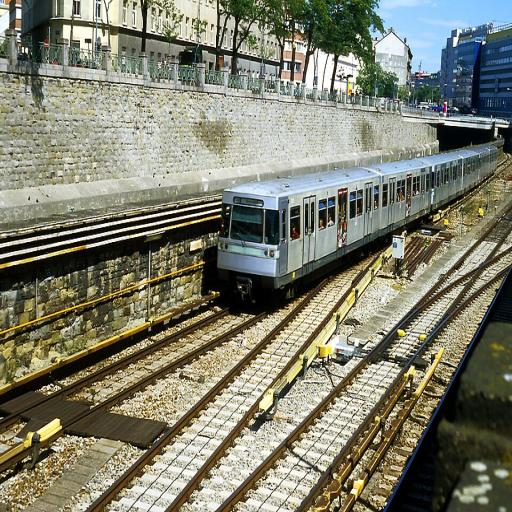Silberpfeil: (214, 142, 500, 311)
